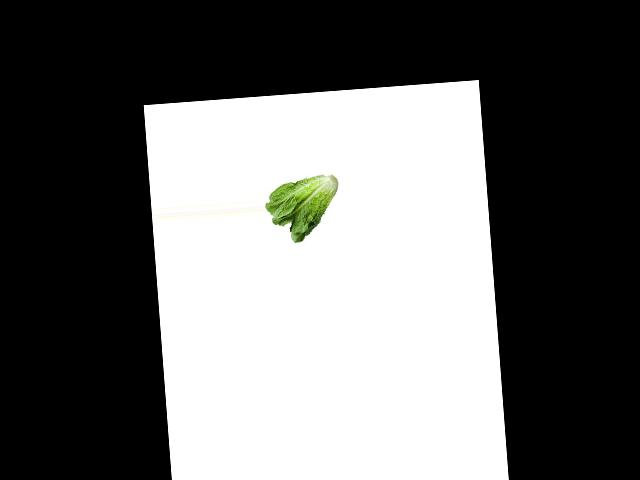lettuce: (261, 171, 342, 247)
